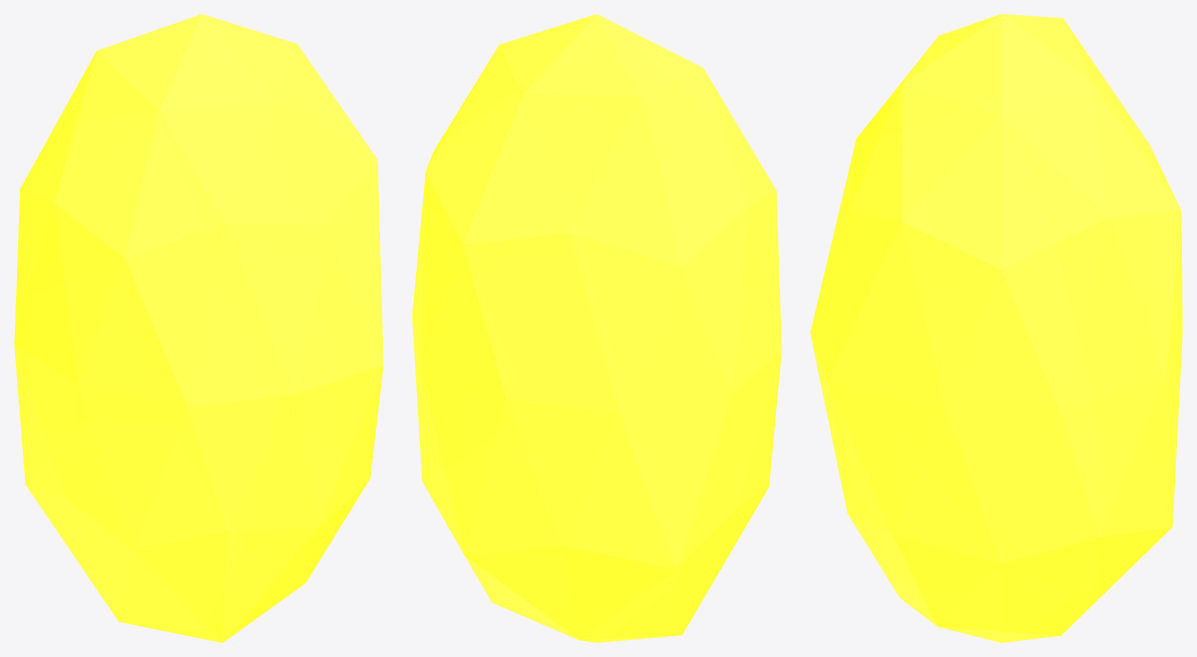
File: schema_crystal.glb
The picture shows the model from 3 angles, left to right: view 1: azimuth 30°, elevation 25°; view 2: azimuth 150°, elevation 25°; view 3: azimuth 270°, elevation 25°; orthographic projection. The views are drawn at different scales.
Visible parts, largest first — view 1: SchemaCrystal; view 2: SchemaCrystal; view 3: SchemaCrystal.
Boxes of the visible parts, x1,y1,x2,y2 form: SchemaCrystal: (14, 14, 383, 642); SchemaCrystal: (412, 14, 781, 642); SchemaCrystal: (810, 14, 1182, 642).
Bounding box in the file's own units: 0.9696 × 1.78 × 0.9578.
